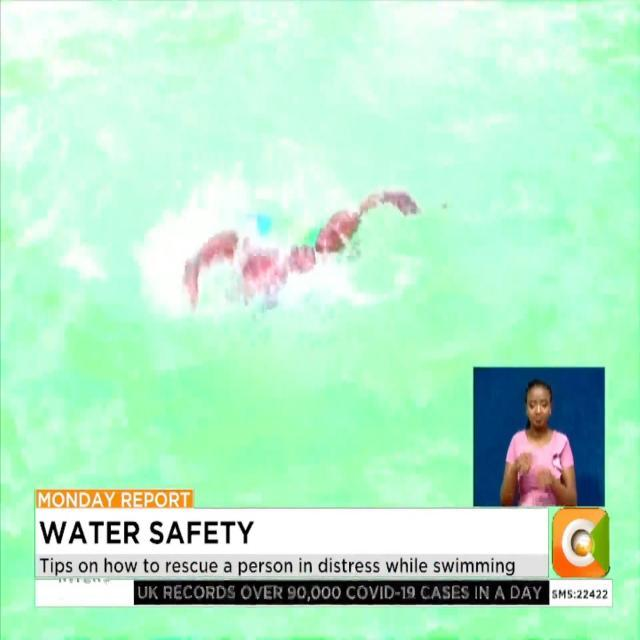drowning: (164, 169, 420, 320)
